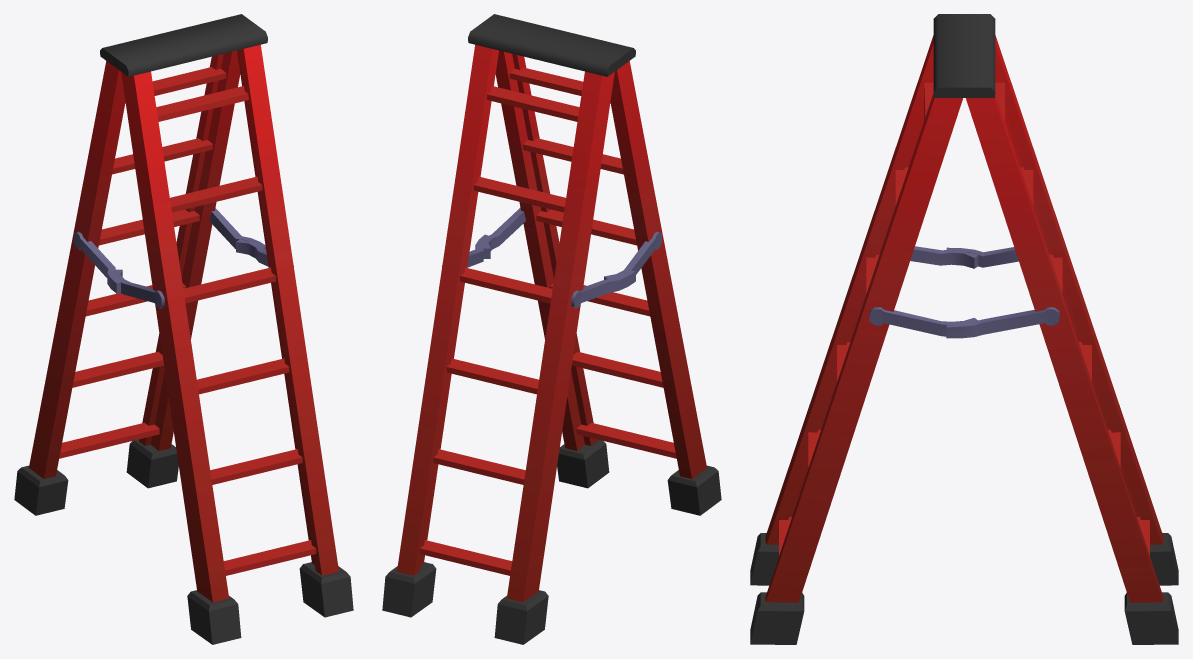
File: Ladder_1_9.fbx
3 renders of one model, left to right at view 1: azimuth 30°, elevation 25°; view 2: azimuth 150°, elevation 25°; view 3: azimuth 270°, elevation 25°, orthographic. The views are drawn at different scales.
Visible parts, largest first — view 1: Ladder_1_9; view 2: Ladder_1_9; view 3: Ladder_1_9.
Boxes of the visible parts, box(x1,y1,x2,y2) form: Ladder_1_9: box(14, 14, 353, 644); Ladder_1_9: box(382, 14, 721, 644); Ladder_1_9: box(750, 14, 1178, 644).
Size of the model in its own units: 55.92 by 182 by 127.
